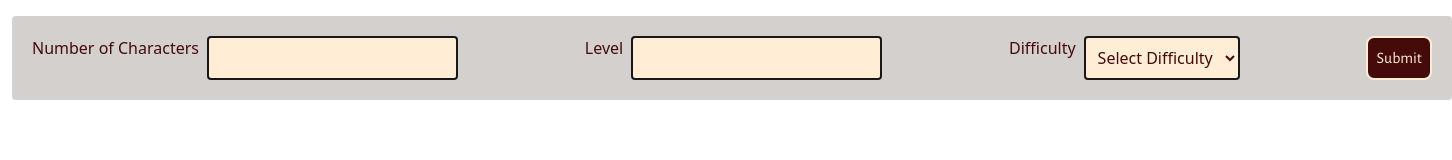
Test: Encounter Generation › Encounter displays error message if no encounter is generated
Type "5" into the number field labelled "Number of Characters" at (332, 58), box x1=207 y1=36 x2=458 y2=80
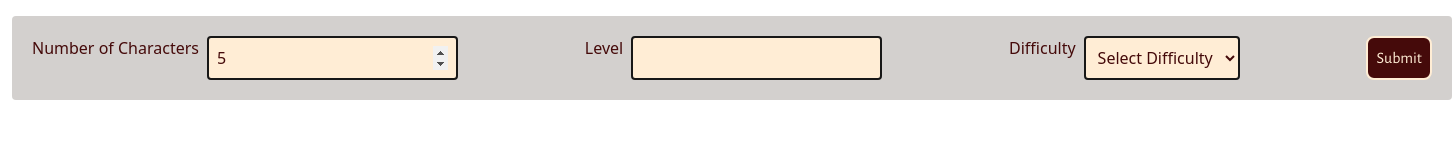
Type "8" into the number field labelled "Level" at (757, 58), box x1=631 y1=36 x2=882 y2=80
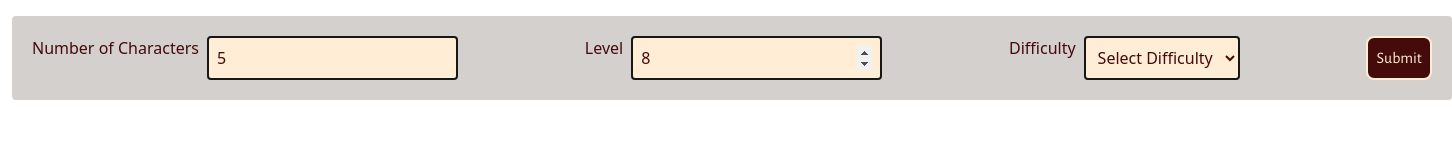
Select "Medium" in the dropdown at (1162, 58), box x1=1084 y1=36 x2=1240 y2=80
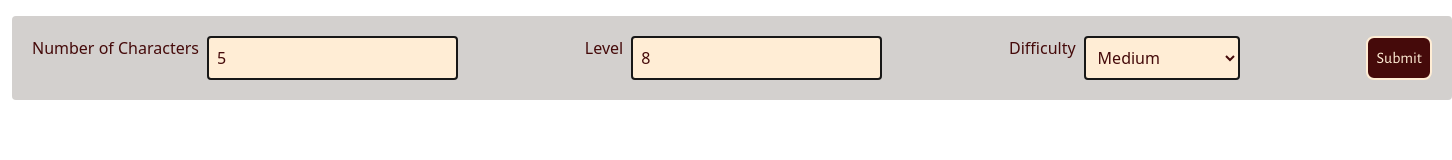
Click the button "Submit" at (1399, 58), box x1=1366 y1=36 x2=1432 y2=80
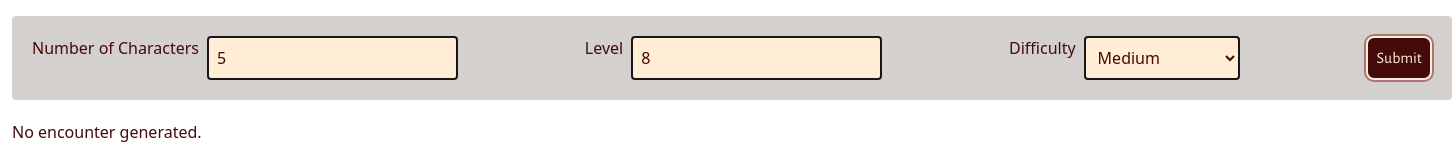
Expected: the text "No encounter generated." is shown, x1=12 y1=121 x2=202 y2=143
